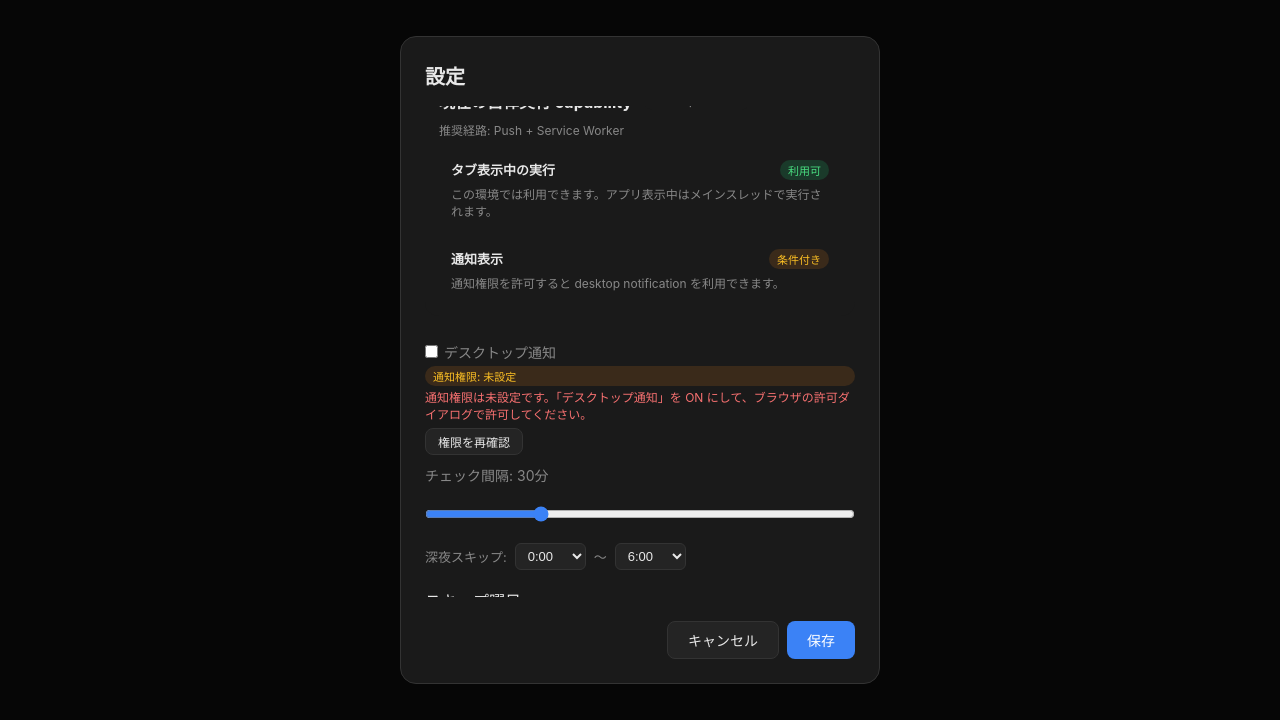
it: SettingsModal › 通知権限回復導線 › 通知許可が denied の場合、デスクトップ通知は ON にならない
The width and height of the screenshot is (1280, 720).
(page scrolled)
Click the checkbox labelled "デスクトップ通知": [432, 352] box [425, 346, 438, 358]
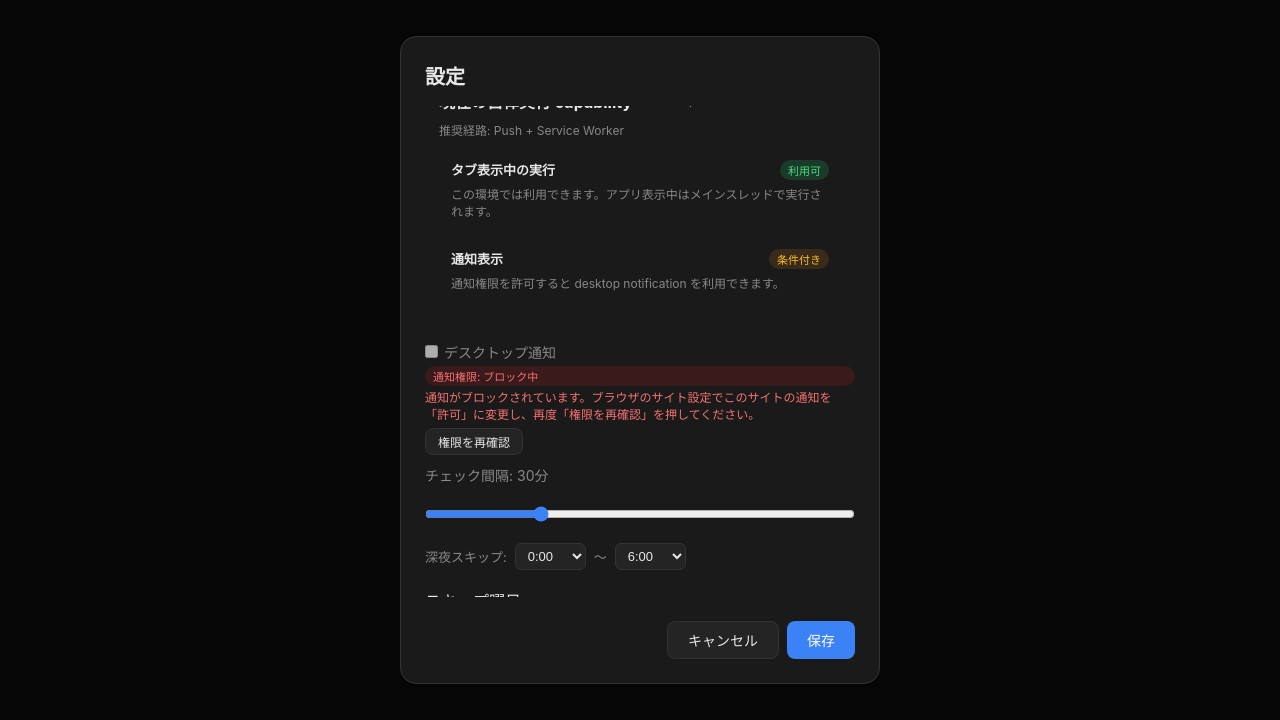
Expected: the text "通知権限: ブロック中" is shown, [425, 366, 855, 386]
